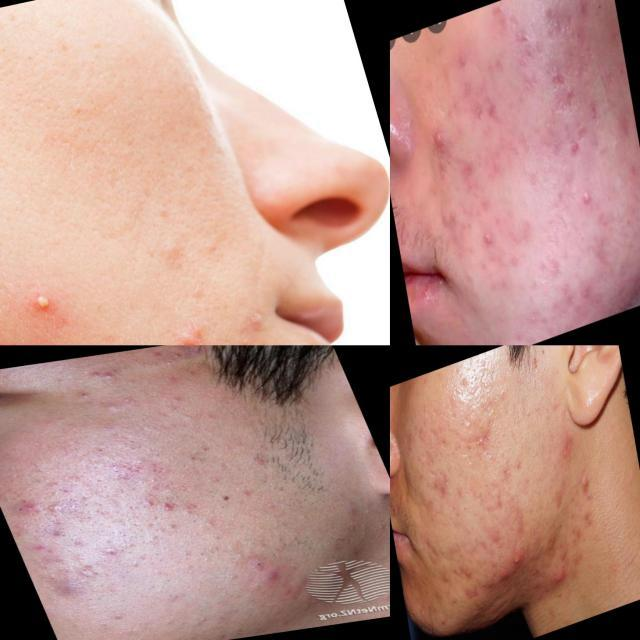Pimples: (0, 266, 100, 346), (249, 565, 306, 594), (470, 90, 505, 134), (536, 56, 571, 98), (160, 323, 224, 345), (422, 118, 453, 160), (418, 524, 444, 574), (54, 572, 92, 604), (542, 560, 573, 596), (426, 472, 456, 508), (466, 426, 494, 464), (574, 180, 600, 218), (34, 498, 76, 520), (75, 442, 114, 464), (560, 128, 585, 160), (560, 80, 584, 112), (10, 494, 42, 518), (453, 154, 478, 184), (448, 538, 472, 568), (502, 548, 528, 574), (457, 367, 474, 397), (573, 0, 591, 27), (478, 227, 497, 252), (460, 565, 475, 585)
